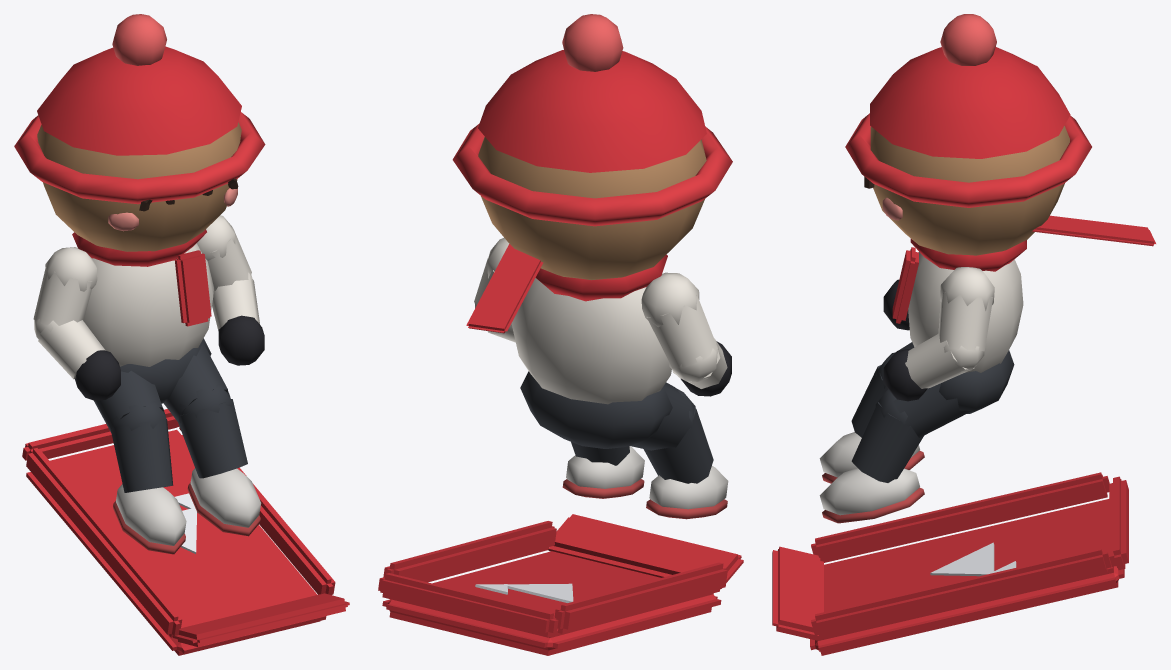
The model's file is rider_sled_lift.glb.
The picture shows the model from 3 angles, left to right: view 1: azimuth 30°, elevation 25°; view 2: azimuth 150°, elevation 25°; view 3: azimuth 270°, elevation 25°; orthographic projection. The views are drawn at different scales.
Visible parts, largest first — view 1: LSL_SledBase, LSL_Beanie, LSL_Head, LSL_Torso, LSL_Cuff, LSL_SledRim_-1, LSL_SledFront, LSL_Shin_R, LSL_Shin_L, LSL_Shoe_L, LSL_Shoe_R, LSL_SledRim_1 (+20 smaller); view 2: LSL_Beanie, LSL_Head, LSL_Torso, LSL_SledBase, LSL_Cuff, LSL_SledFront, LSL_Pelvis, LSL_SledRim_-1, LSL_SledBack, LSL_SledRim_1, LSL_ScarfTail.001, LSL_Pom (+14 smaller); view 3: LSL_SledBase, LSL_Beanie, LSL_Head, LSL_SledRim_1, LSL_SledRim_-1, LSL_Cuff, LSL_Torso, LSL_SledFront, LSL_Shin_R, LSL_Shoe_R, LSL_UpperArm_R, LSL_Pelvis (+14 smaller).
Boxes of the visible parts, x1=… form: LSL_SledBase: x1=26, y1=429, x2=326, y2=655; LSL_Beanie: x1=37, y1=46, x2=241, y2=155; LSL_Head: x1=37, y1=122, x2=241, y2=251; LSL_Torso: x1=83, y1=243, x2=213, y2=366; LSL_Cuff: x1=14, y1=112, x2=265, y2=204; LSL_SledRim_-1: x1=26, y1=448, x2=182, y2=637; LSL_SledFront: x1=172, y1=593, x2=349, y2=647; LSL_Shin_R: x1=177, y1=399, x2=247, y2=478; LSL_Shin_L: x1=110, y1=419, x2=173, y2=492; LSL_Shoe_L: x1=116, y1=484, x2=186, y2=545; LSL_Shoe_R: x1=190, y1=468, x2=261, y2=527; LSL_SledRim_1: x1=179, y1=427, x2=335, y2=594; LSL_Beanie: x1=478, y1=50, x2=706, y2=172; LSL_Head: x1=478, y1=137, x2=706, y2=280; LSL_Torso: x1=511, y1=278, x2=671, y2=404; LSL_SledBase: x1=382, y1=551, x2=721, y2=655; LSL_Cuff: x1=452, y1=123, x2=732, y2=226; LSL_SledFront: x1=548, y1=514, x2=743, y2=588; LSL_Pelvis: x1=520, y1=371, x2=672, y2=448; LSL_SledRim_-1: x1=554, y1=562, x2=727, y2=633; LSL_SledBack: x1=378, y1=573, x2=558, y2=637; LSL_SledRim_1: x1=383, y1=521, x2=556, y2=582; LSL_ScarfTail.001: x1=466, y1=244, x2=543, y2=333; LSL_Pom: x1=562, y1=14, x2=623, y2=71; LSL_SledBase: x1=810, y1=499, x2=1124, y2=655; LSL_Beanie: x1=870, y1=47, x2=1070, y2=158; LSL_Head: x1=870, y1=126, x2=1069, y2=255; LSL_SledRim_1: x1=811, y1=548, x2=1111, y2=639; LSL_SledRim_-1: x1=811, y1=472, x2=1109, y2=562; LSL_Cuff: x1=845, y1=113, x2=1091, y2=207; LSL_Torso: x1=908, y1=252, x2=1023, y2=372; LSL_SledFront: x1=772, y1=546, x2=823, y2=640; LSL_Shin_R: x1=851, y1=402, x2=923, y2=482; LSL_Shoe_R: x1=819, y1=468, x2=919, y2=515; LSL_UpperArm_R: x1=938, y1=292, x2=993, y2=351; LSL_Pelvis: x1=939, y1=350, x2=1014, y2=413.
Size of the model in its own units: 0.6168 by 1.48 by 0.8784.
